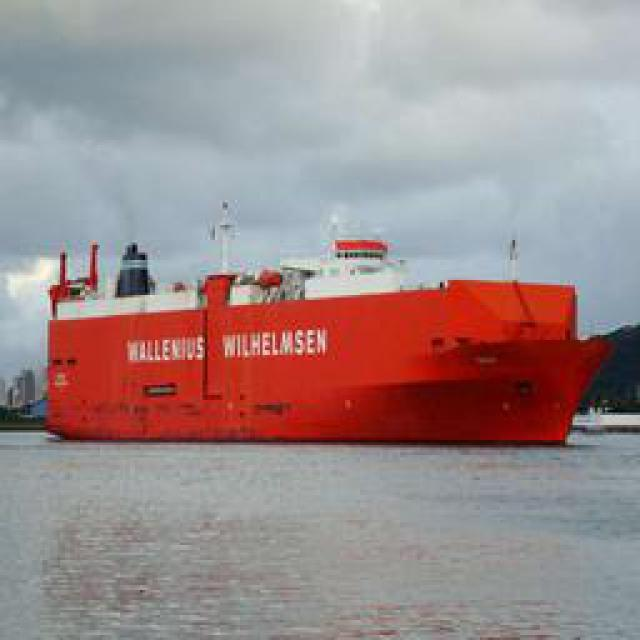Ship: (42, 200, 605, 448)
